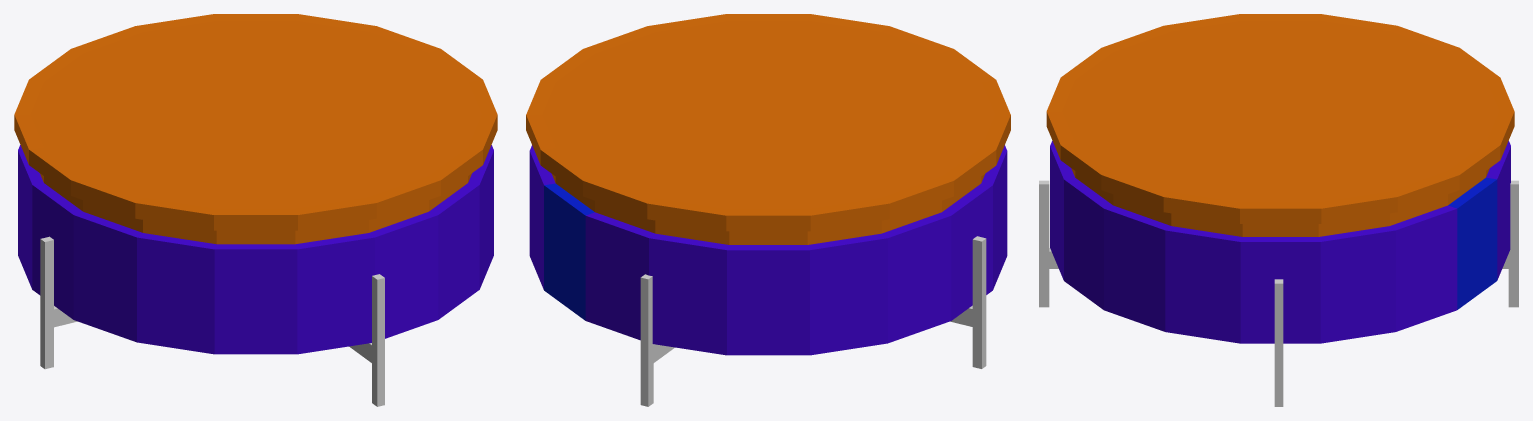
File: RoundTable_low.fbx
The picture shows the model from 3 angles, left to right: view 1: azimuth 30°, elevation 25°; view 2: azimuth 150°, elevation 25°; view 3: azimuth 270°, elevation 25°; orthographic projection. The views are drawn at different scales.
Parts seen in each view (by area): view 1: Cylinder.008, Cube.026, Cube.027; view 2: Cylinder.008, Cube.026, Cube.027; view 3: Cylinder.008, Cube.027, Cube.026.
Part boxes in pixels (x1,y1,x2,y2): Cylinder.008: (14,14,497,354); Cube.026: (40,236,77,369); Cube.027: (349,274,384,406); Cylinder.008: (526,14,1010,355); Cube.026: (950,236,986,368); Cube.027: (640,274,674,406); Cylinder.008: (1046,14,1514,343); Cube.027: (1039,180,1518,307); Cube.026: (1274,279,1283,406).
Size of the model in its own units: 183 by 81.41 by 183.
